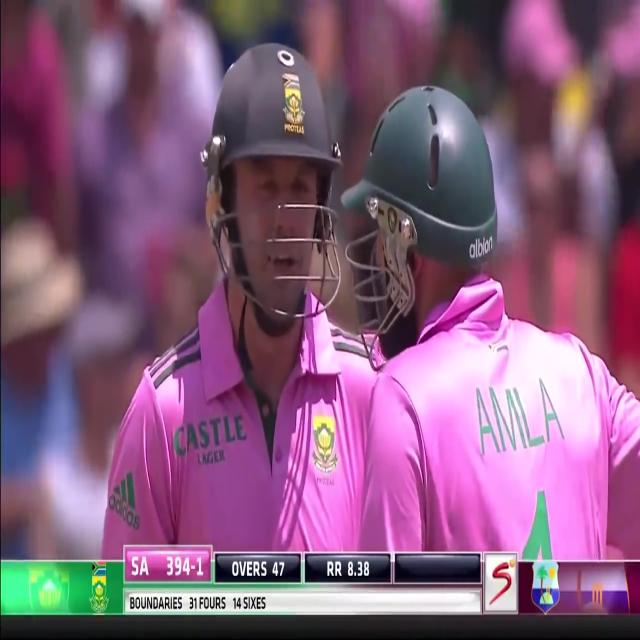Ball: (331, 88, 640, 557), (99, 33, 344, 555)
